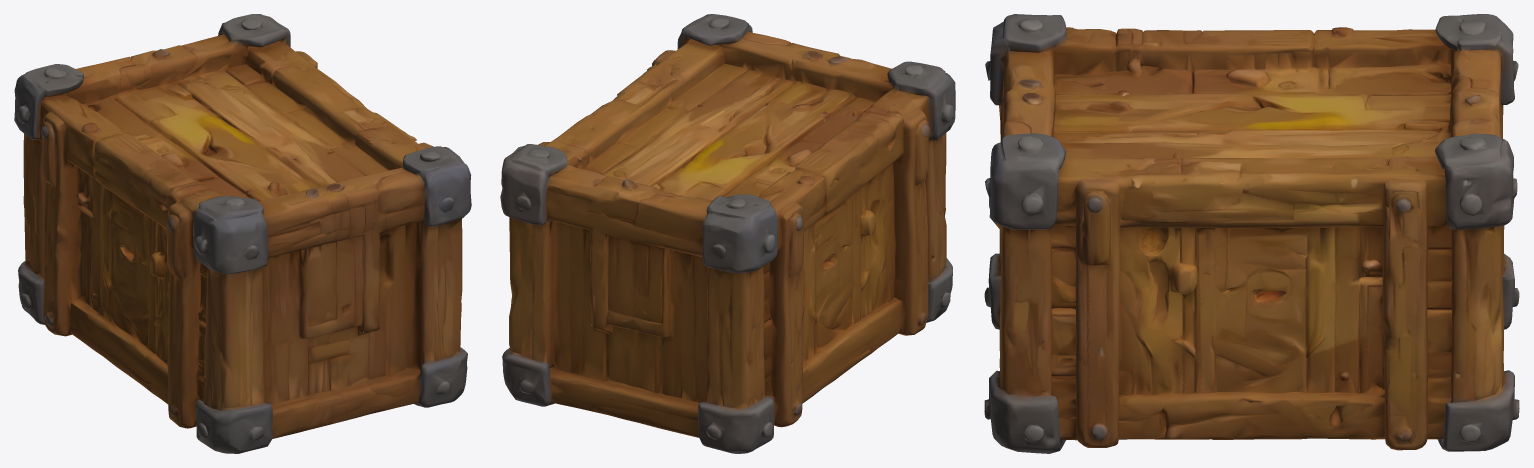
Rendered from crate.glb.
The picture shows the model from 3 angles, left to right: view 1: azimuth 30°, elevation 25°; view 2: azimuth 150°, elevation 25°; view 3: azimuth 270°, elevation 25°; orthographic projection. The views are drawn at different scales.
Visible parts, largest first — view 1: tripo_node_11248de8-1d22-4241-bb79-b247c85cfe46; view 2: tripo_node_11248de8-1d22-4241-bb79-b247c85cfe46; view 3: tripo_node_11248de8-1d22-4241-bb79-b247c85cfe46.
Part boxes in pixels (x1,y1,x2,y2): tripo_node_11248de8-1d22-4241-bb79-b247c85cfe46: [14, 14, 471, 453]; tripo_node_11248de8-1d22-4241-bb79-b247c85cfe46: [500, 14, 955, 453]; tripo_node_11248de8-1d22-4241-bb79-b247c85cfe46: [984, 14, 1519, 453].
Bounding box in the file's own units: 0.7155 × 0.6178 × 0.9821.
1 material, 1 textured.
